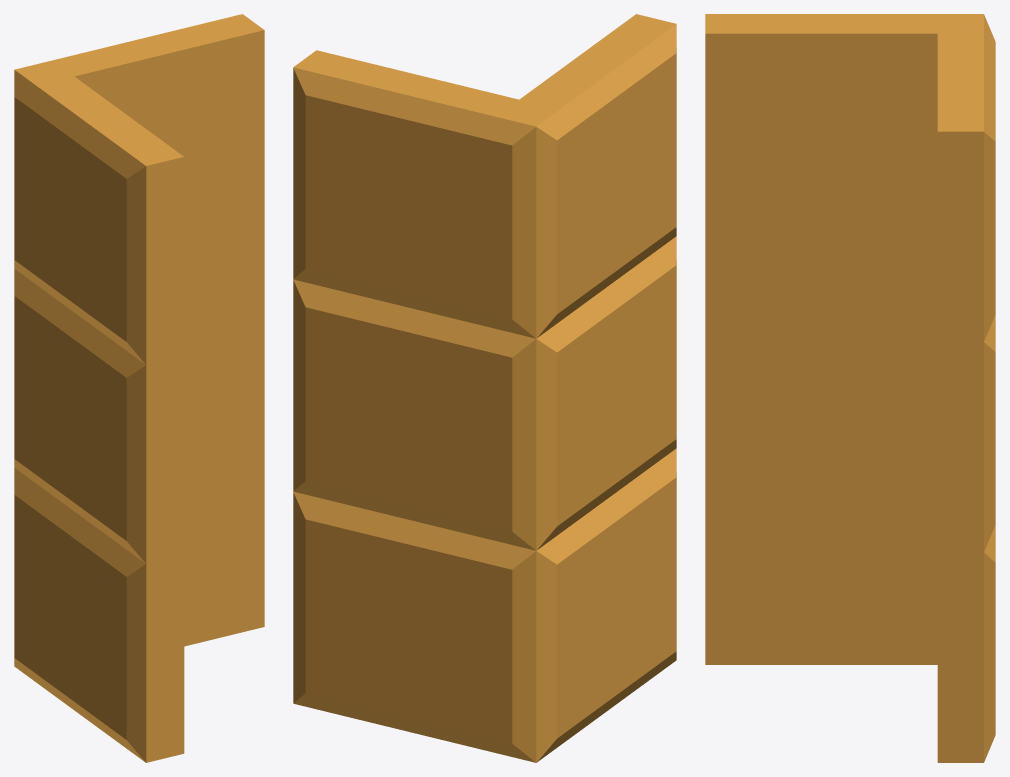
Rendered from scifi-scifi-wall-edge-stripe.glb.
3 renders of one model, left to right at view 1: azimuth 30°, elevation 25°; view 2: azimuth 150°, elevation 25°; view 3: azimuth 270°, elevation 25°, orthographic. The views are drawn at different scales.
Parts seen in each view (by area): view 1: scifi-wall-edge-stripe; view 2: scifi-wall-edge-stripe; view 3: scifi-wall-edge-stripe.
Boxes of the visible parts, x1,y1,x2,y2 form: scifi-wall-edge-stripe: [14, 14, 264, 762]; scifi-wall-edge-stripe: [293, 14, 676, 762]; scifi-wall-edge-stripe: [705, 14, 995, 762].
Bounding box in the file's own units: 1.25 × 3 × 1.25.
